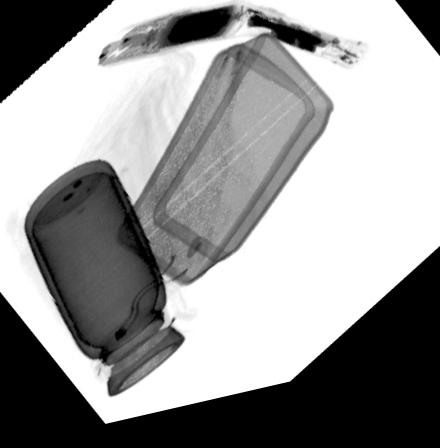Baton: (95, 8, 373, 89)
